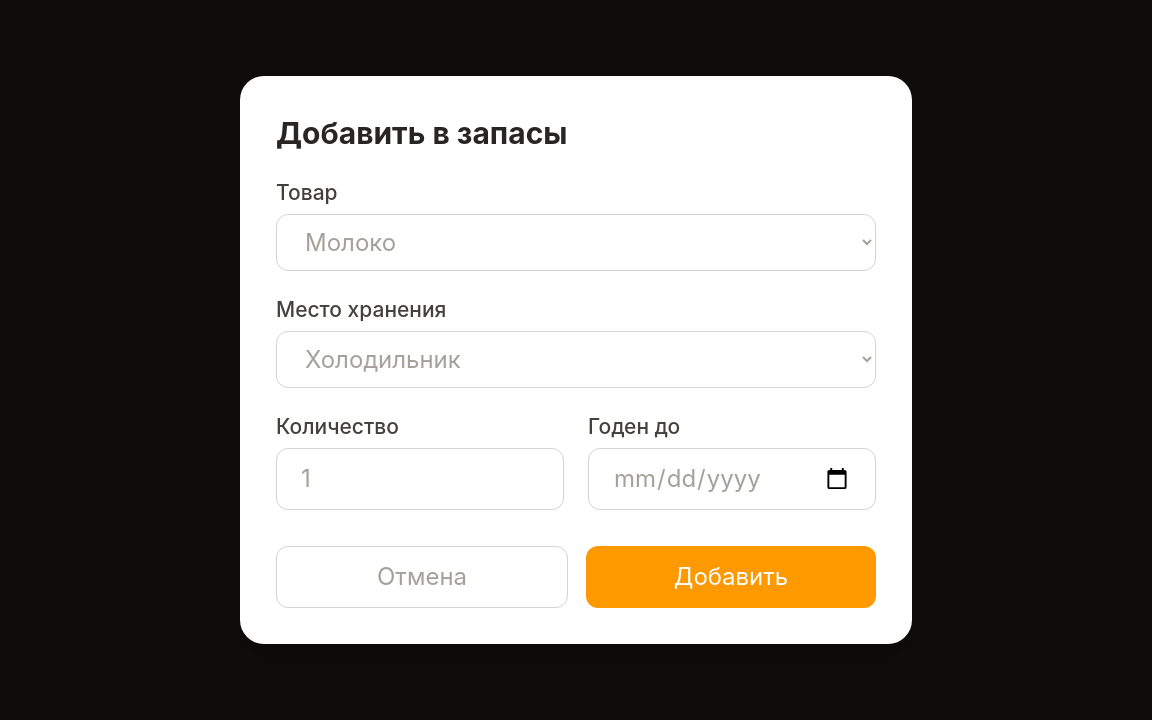
Test case: AddStockModal › rejects quantity above the limit of 50
The width and height of the screenshot is (1152, 720).
Expected: the dropdown labelled "Место хранения" shows "Холодильник", [276,331,876,388]
Replace the text in the number field labelled "Количество" with "51" at [420, 479], box [276,448,564,510]
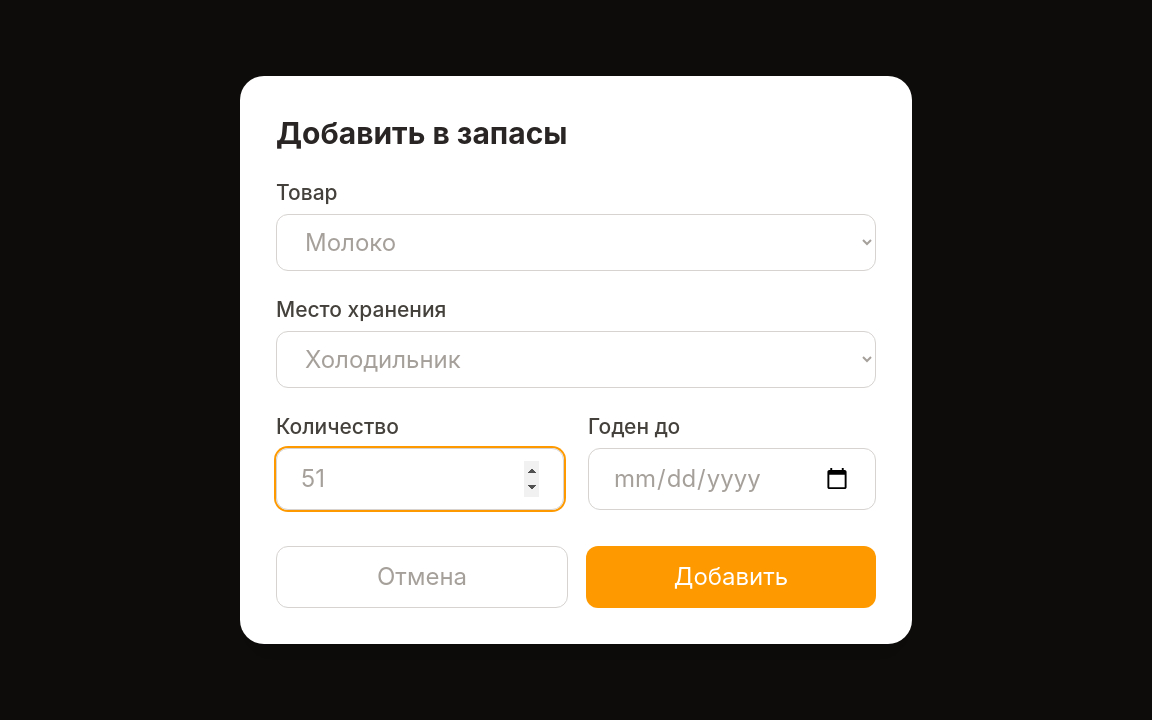
Click the button "Добавить" at [731, 577], box [586,546,876,608]
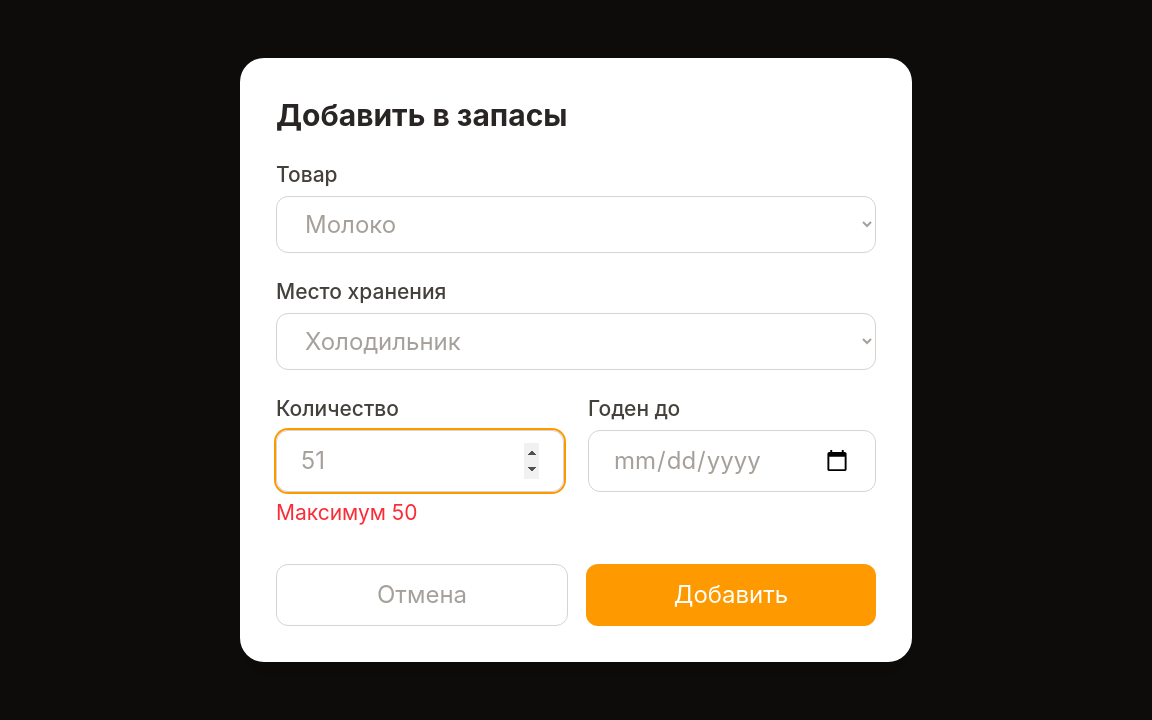
Now the text "Максимум 50" is shown, box [276,500,418,525]
